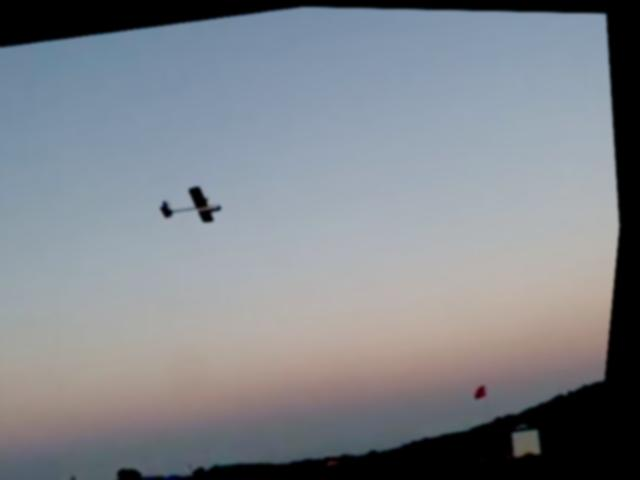uav: (155, 174, 230, 234)
